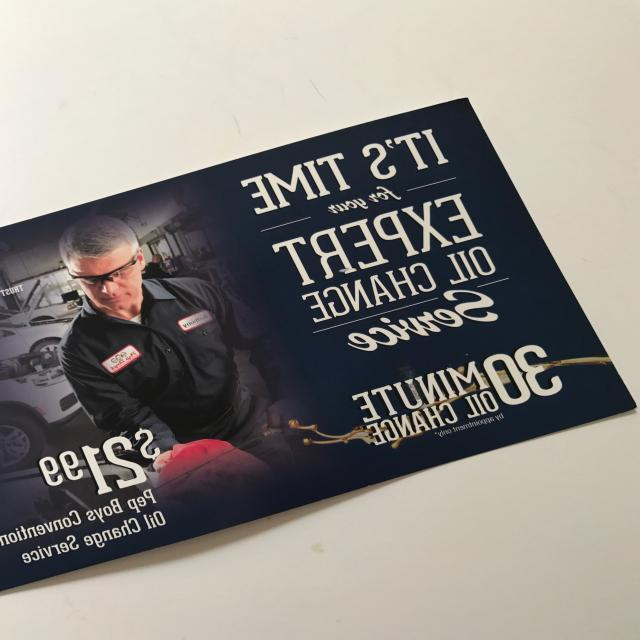paper: (0, 75, 640, 619)
